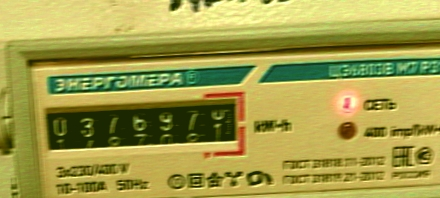0: (52, 116, 67, 139)
1: (211, 123, 224, 144)
3: (79, 117, 96, 140)
6: (131, 110, 147, 134)
7: (104, 113, 120, 137), (185, 110, 200, 133)
9: (157, 110, 173, 134)
screen: (35, 88, 250, 174)
